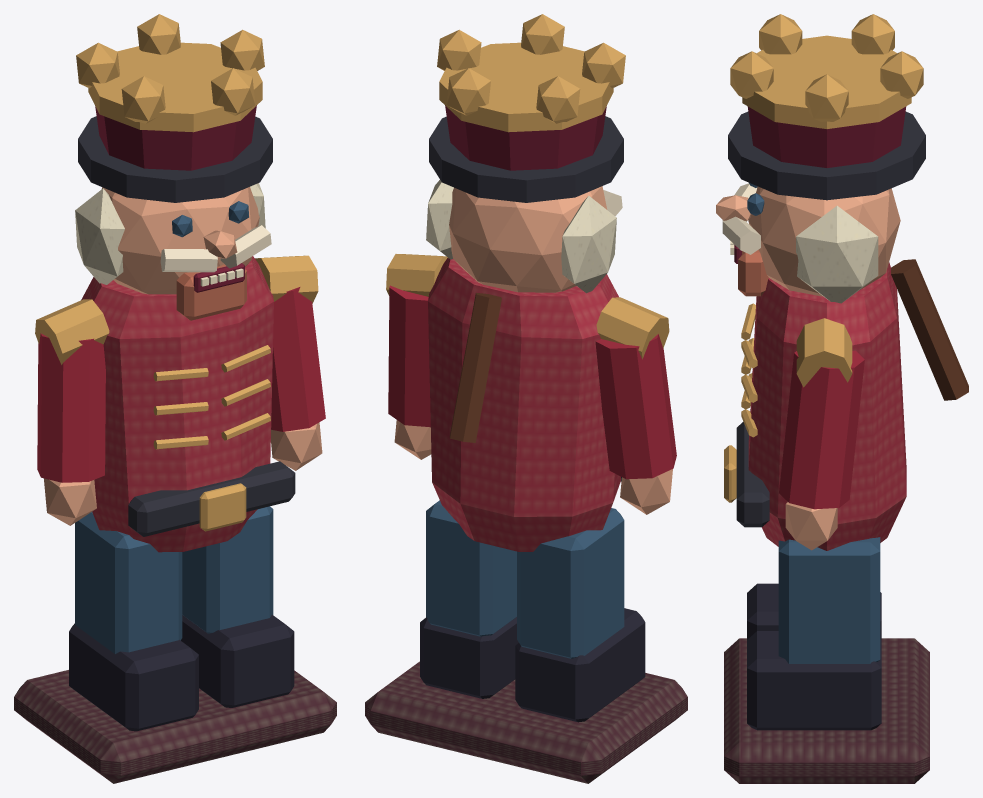
Rendered from nutcracker.glb.
3 renders of one model, left to right at view 1: azimuth 30°, elevation 25°; view 2: azimuth 150°, elevation 25°; view 3: azimuth 270°, elevation 25°, orthographic.
Parts seen in each view (by area): view 1: nutcracker; view 2: nutcracker; view 3: nutcracker.
Part boxes in pixels (<box>): nutcracker: <box>14,14,336,783</box>; nutcracker: <box>365,14,687,783</box>; nutcracker: <box>716,14,968,783</box>.
Bounding box in the file's own units: 0.1299 × 0.3 × 0.0995.
14 materials, 3 textured.
